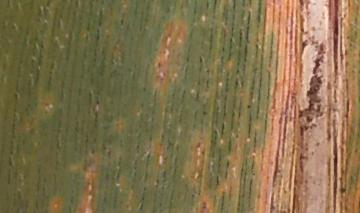tarspot: (298, 75, 324, 124), (312, 55, 325, 75), (316, 41, 325, 56), (297, 152, 308, 161), (339, 186, 346, 199), (197, 54, 205, 64), (119, 17, 125, 27), (200, 109, 208, 116), (314, 140, 321, 148), (88, 148, 95, 155), (156, 61, 162, 69), (141, 85, 146, 93), (246, 103, 251, 110), (94, 98, 99, 105)
